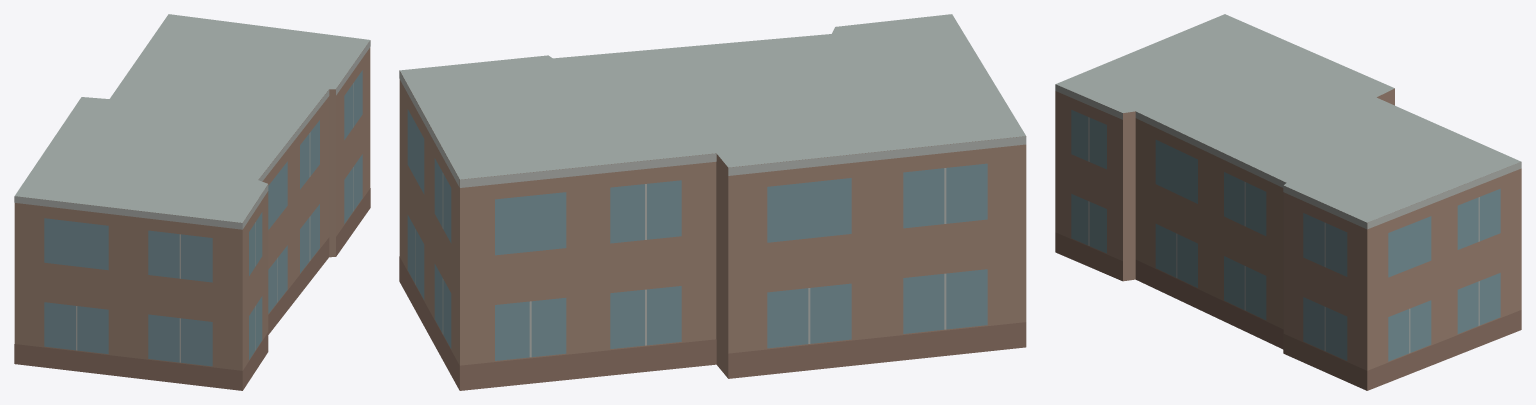
The model's file is survey-upis-32679495.glb.
3 views of the same model, side by side, from view 1: azimuth 30°, elevation 25°; view 2: azimuth 150°, elevation 25°; view 3: azimuth 270°, elevation 25° (orthographic). The views are drawn at different scales.
Parts seen in each view (by area): view 1: survey-upis-32679495.tmp; view 2: survey-upis-32679495.tmp; view 3: survey-upis-32679495.tmp.
Part boxes in pixels (x1,y1,x2,y2): survey-upis-32679495.tmp: [14, 14, 370, 390]; survey-upis-32679495.tmp: [399, 14, 1026, 390]; survey-upis-32679495.tmp: [1055, 14, 1521, 390].
Size of the model in its own units: 16.24 by 6.1 by 15.33.
